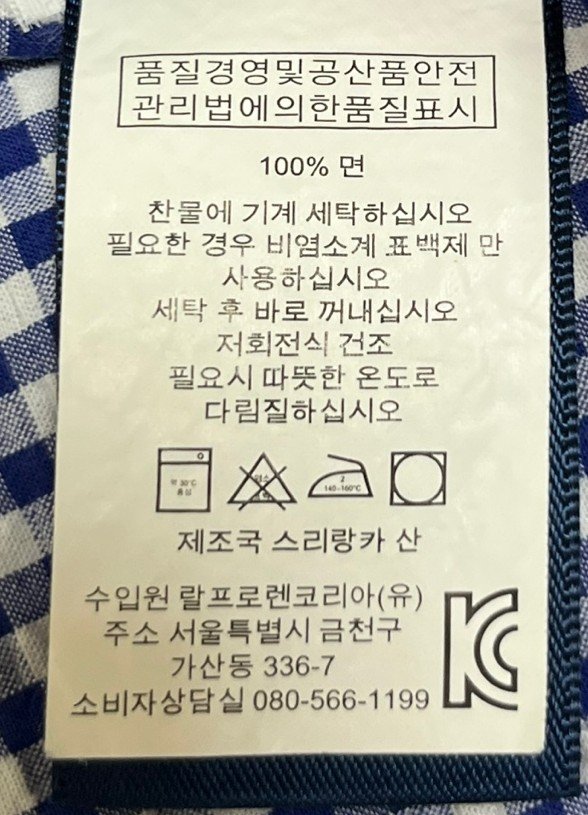iron_low: (305, 448, 377, 505)
non_chlorine_bleach: (221, 444, 300, 515)
tumble_dry_normal: (381, 442, 458, 513)
